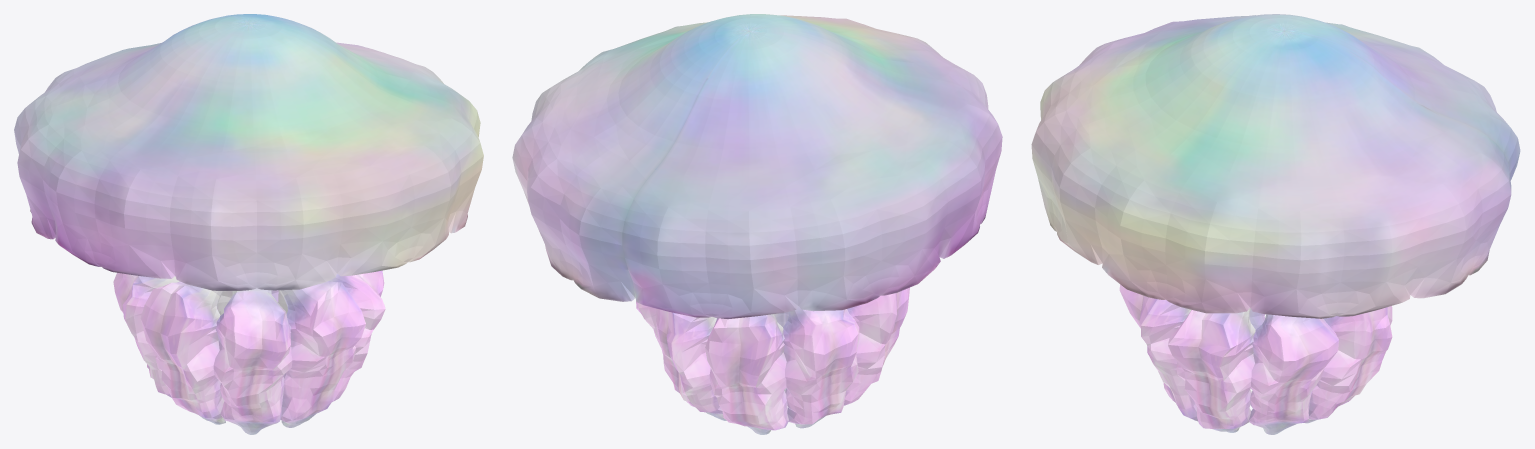
Rendered from jellyfish.glb.
The picture shows the model from 3 angles, left to right: view 1: azimuth 30°, elevation 25°; view 2: azimuth 150°, elevation 25°; view 3: azimuth 270°, elevation 25°; orthographic projection. The views are drawn at different scales.
Parts seen in each view (by area): view 1: Jellyfish_003Shape; view 2: Jellyfish_003Shape; view 3: Jellyfish_003Shape.
Part boxes in pixels (bbox=[...]): Jellyfish_003Shape: bbox=[14, 14, 483, 434]; Jellyfish_003Shape: bbox=[512, 14, 1002, 434]; Jellyfish_003Shape: bbox=[1031, 14, 1520, 434].
Bounding box in the file's own units: 4.36 × 3.81 × 4.35.
Materials: 1 (1 with a texture image).
